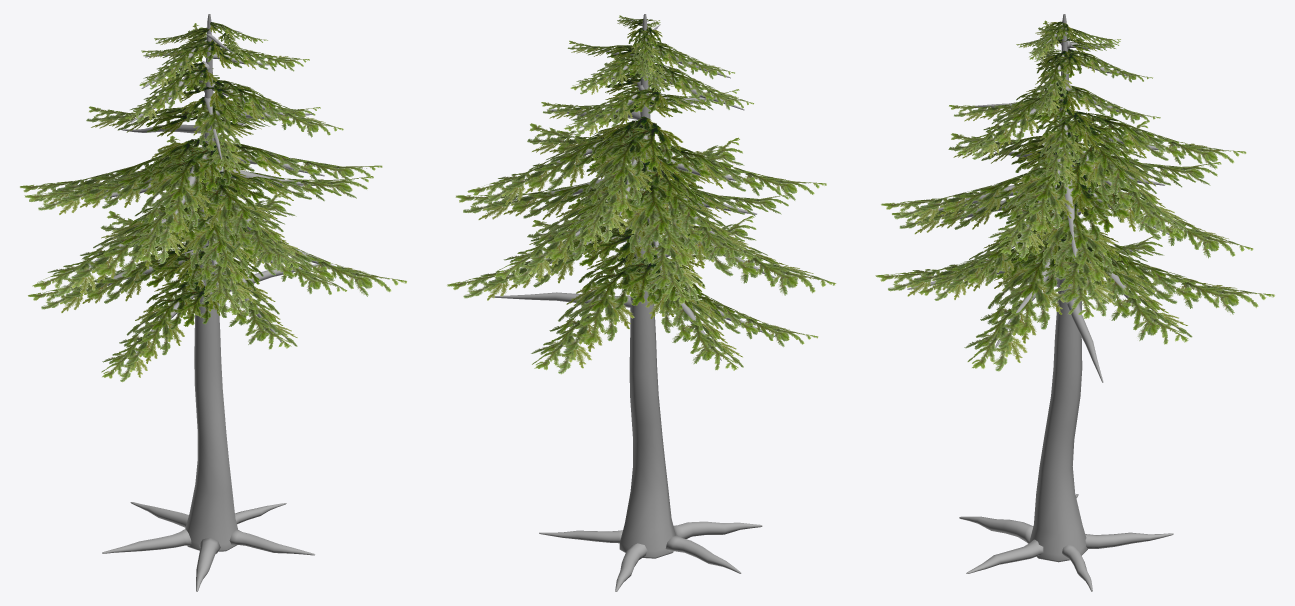
The model's file is LodgepolePine_02.fbx.
The picture shows the model from 3 angles, left to right: view 1: azimuth 30°, elevation 25°; view 2: azimuth 150°, elevation 25°; view 3: azimuth 270°, elevation 25°; orthographic projection. The views are drawn at different scales.
Parts seen in each view (by area): view 1: LodgepolePine_leaves, LodgepolePine_Trunk_branches; view 2: LodgepolePine_leaves, LodgepolePine_Trunk_branches; view 3: LodgepolePine_leaves, LodgepolePine_Trunk_branches.
Boxes of the visible parts, x1,y1,x2,y2 form: LodgepolePine_leaves: (20, 22, 406, 382); LodgepolePine_Trunk_branches: (83, 14, 334, 591); LodgepolePine_leaves: (447, 15, 836, 374); LodgepolePine_Trunk_branches: (491, 14, 775, 591); LodgepolePine_leaves: (875, 20, 1274, 371); LodgepolePine_Trunk_branches: (907, 14, 1180, 591).
Bounding box in the file's own units: 5.19 × 7.12 × 4.92.
